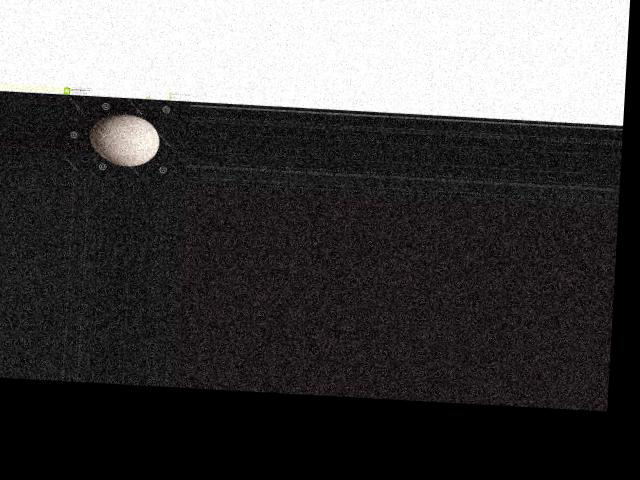egg: (88, 112, 161, 167)
